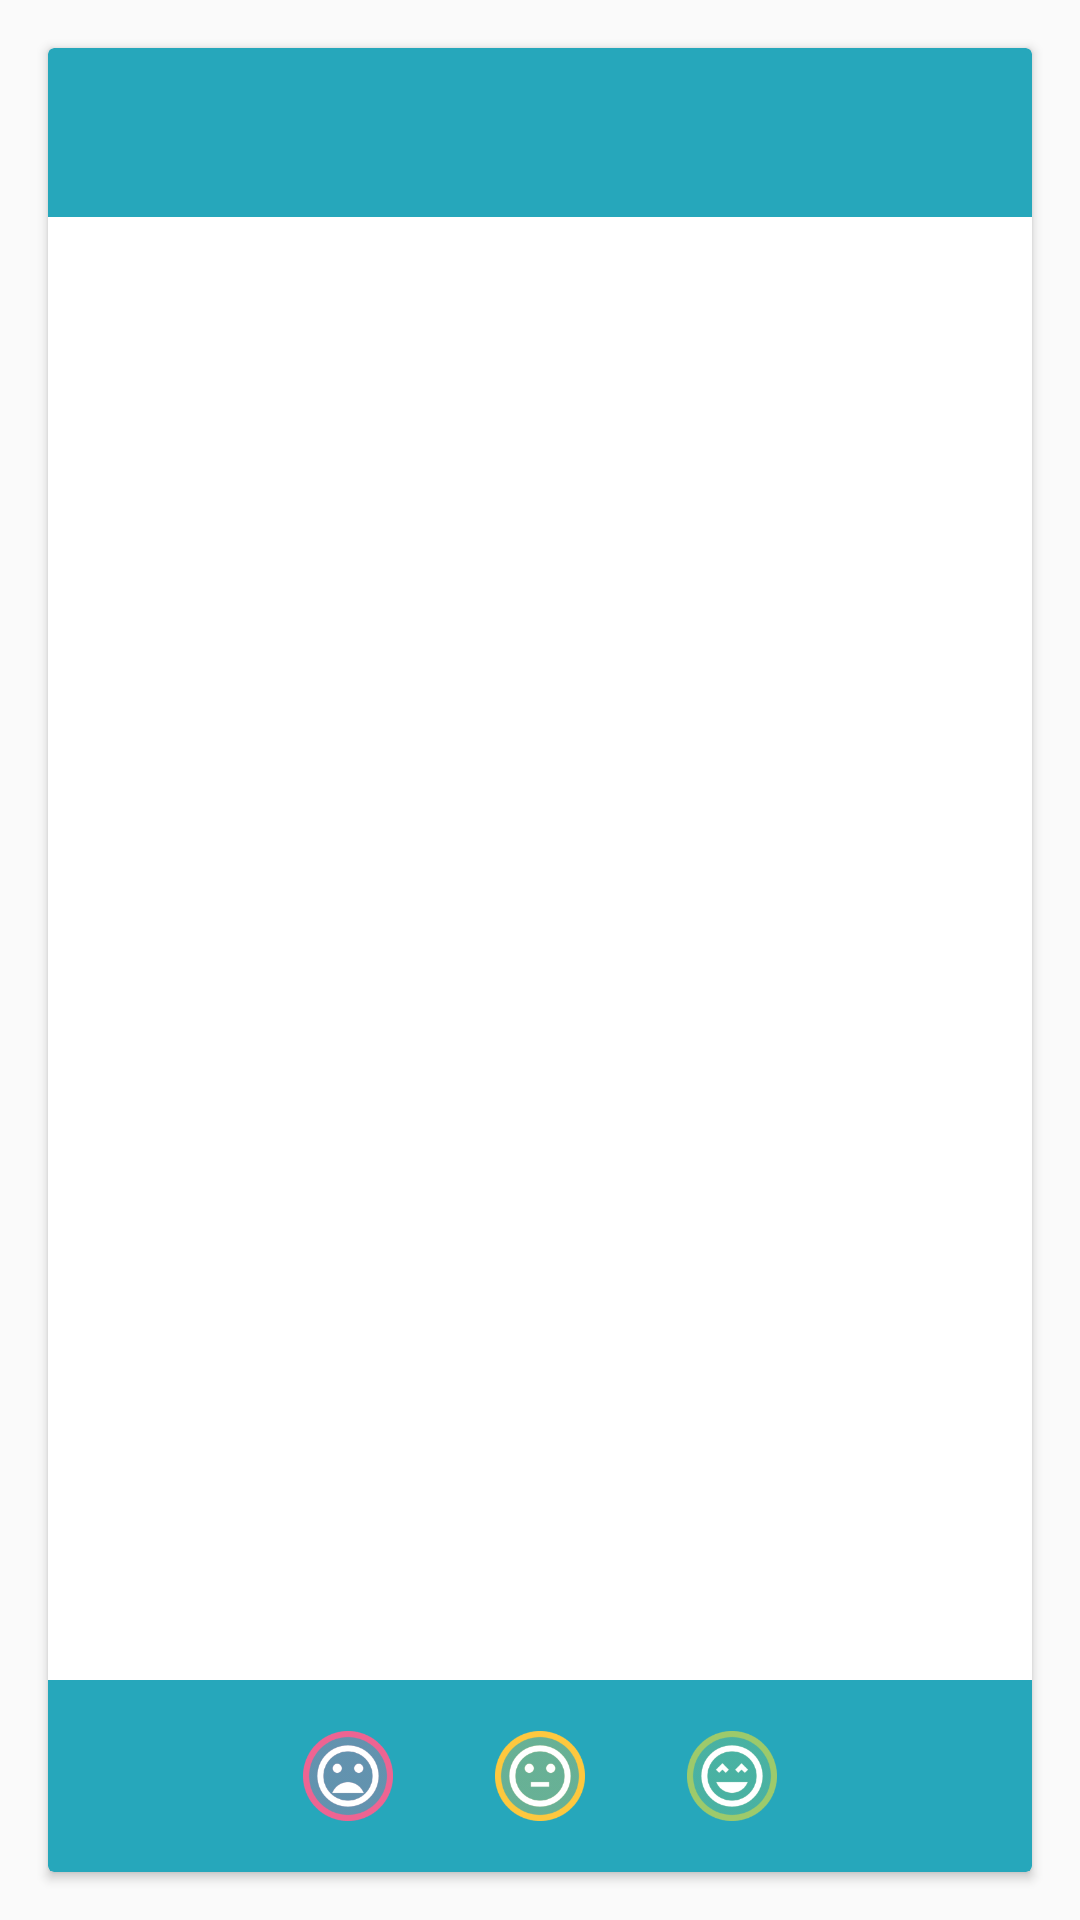

Screen size 1080px×1920px. Icon name, then its box in pixels as (x1, y1, x2, y2):
negative rating: (303, 1731, 393, 1821)
neutral rating: (495, 1731, 585, 1821)
positive rating: (687, 1731, 777, 1821)
